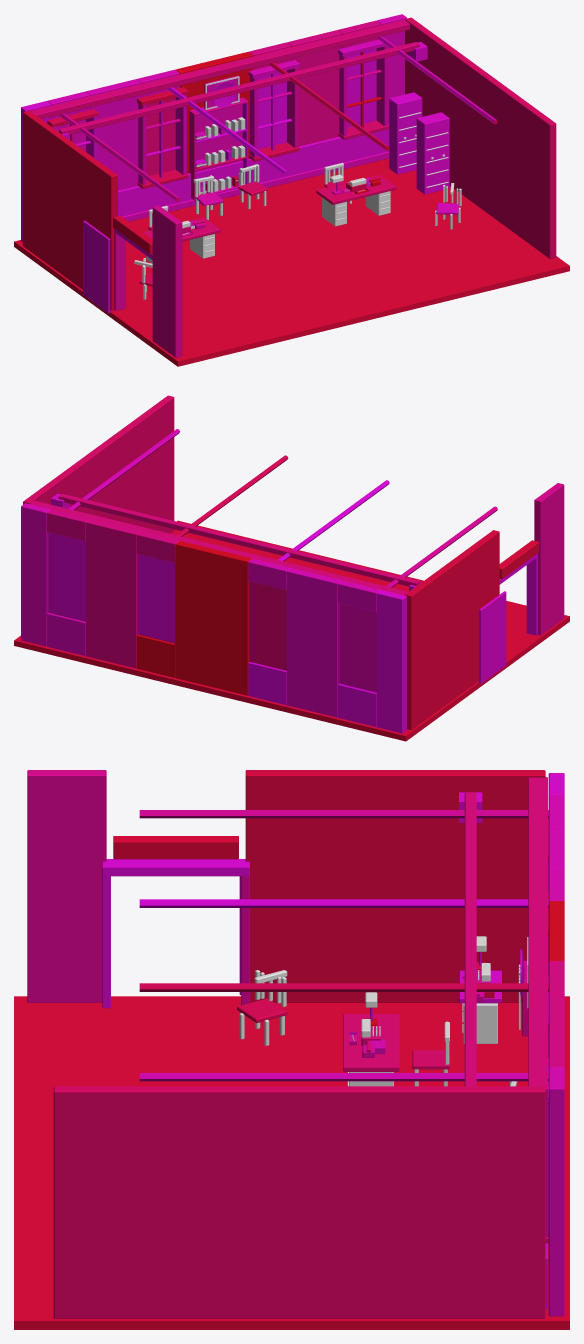
The model's file is court_chapter_13.glb.
3 views of the same model, one above another, from view 1: azimuth 30°, elevation 25°; view 2: azimuth 150°, elevation 25°; view 3: azimuth 270°, elevation 25° (orthographic). The views are drawn at different scales.
Parts seen in each view (by area): view 1: Floor, WallRight, WallLeftRear, Wainscot, CorniceRear, WallLeftFront, WallBackPier_3, IronCrossBeam, WallBackPier_1, DispatchRecords, DepartmentFile_1, DepartmentFile_0 (+23 smaller); view 2: WallLeftRear, WallBackPier_2, WallRight, Floor, WallBackPier_1, WallBackPier_3, WallBackPier_0, WallLeftFront, WallBackPier_end, IronCrossBeam, Glazing_1, Glazing_0 (+18 smaller); view 3: WallRight, WallLeftRear, Floor, WallLeftFront, CorniceRear, WallBackPier_end, IronCrossBeam, IronCeiling_1, IronCeiling_2, IronCeiling_0, IronCeiling_3, DoorLintel (+10 smaller).
Part boxes in pixels (x1,y1,x2,y2): Floor: [14, 158, 569, 366]; WallRight: [405, 17, 556, 258]; WallLeftRear: [23, 110, 117, 310]; Wainscot: [118, 124, 389, 216]; CorniceRear: [30, 19, 409, 119]; WallLeftFront: [152, 205, 182, 357]; WallBackPier_3: [287, 30, 341, 146]; IronCrossBeam: [58, 42, 419, 134]; WallBackPier_1: [86, 79, 140, 190]; DispatchRecords: [189, 97, 248, 200]; DepartmentFile_1: [416, 112, 449, 194]; DepartmentFile_0: [389, 92, 422, 174]; WallLeftRear: [405, 530, 499, 730]; WallBackPier_2: [175, 541, 251, 695]; WallRight: [23, 395, 174, 533]; Floor: [14, 520, 569, 741]; WallBackPier_1: [287, 568, 341, 717]; WallBackPier_3: [86, 519, 140, 668]; WallBackPier_0: [376, 590, 406, 733]; WallLeftFront: [534, 483, 564, 635]; WallBackPier_end: [21, 503, 50, 646]; IronCrossBeam: [58, 493, 419, 586]; Glazing_1: [249, 581, 286, 670]; Glazing_0: [339, 603, 376, 691]; WallRight: [53, 1086, 545, 1318]; WallLeftRear: [245, 770, 545, 1002]; Floor: [14, 996, 569, 1329]; WallLeftFront: [27, 770, 106, 1002]; CorniceRear: [528, 777, 547, 1098]; WallBackPier_end: [548, 1067, 564, 1316]; IronCrossBeam: [464, 792, 476, 1086]; IronCeiling_1: [139, 899, 548, 907]; IronCeiling_2: [139, 983, 548, 991]; IronCeiling_0: [139, 810, 548, 818]; IronCeiling_3: [139, 1073, 548, 1081]; DoorLintel: [113, 836, 238, 859].
Size of the model in its own units: 11.7 by 3.95 by 8.4.
